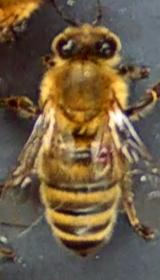varroa_mite: (90, 140, 118, 167)
